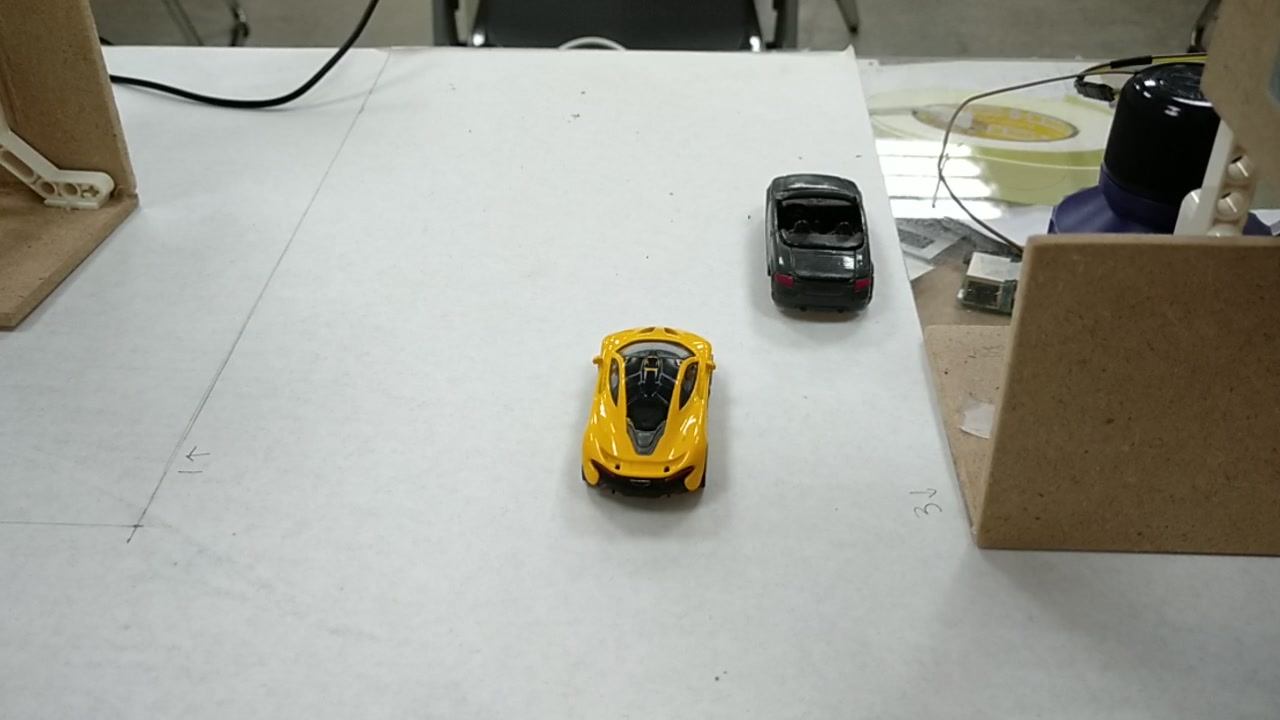car: (584, 329, 721, 488), (766, 178, 872, 300)
